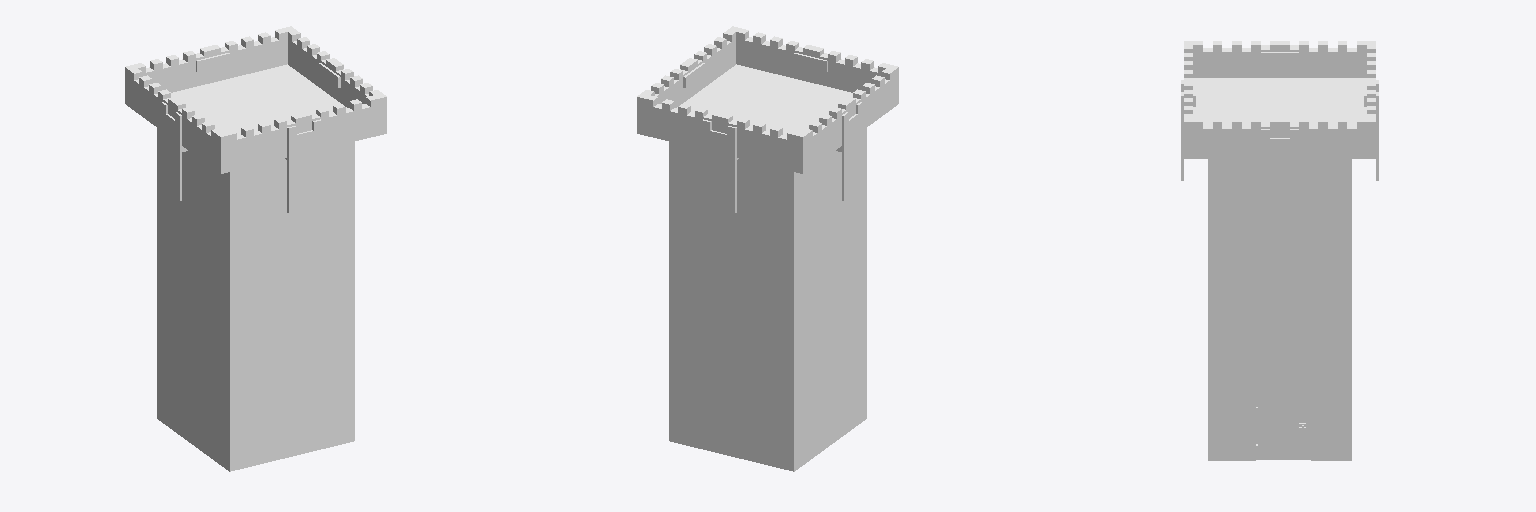
The model's file is TVS_VoxelKnights_TowerWithDoor.obj.
The picture shows the model from 3 angles: view 1: azimuth 30°, elevation 25°; view 2: azimuth 150°, elevation 25°; view 3: azimuth 270°, elevation 25°; orthographic projection.
Parts seen in each view (by area): view 1: ObjObject.002; view 2: ObjObject.002; view 3: ObjObject.002.
Part boxes in pixels (left/top/right/bottom): ObjObject.002: left=125, top=26, right=386, bottom=471; ObjObject.002: left=637, top=26, right=898, bottom=471; ObjObject.002: left=1181, top=41, right=1378, bottom=460.
Bounding box in the file's own units: 8.2 × 16 × 8.2.